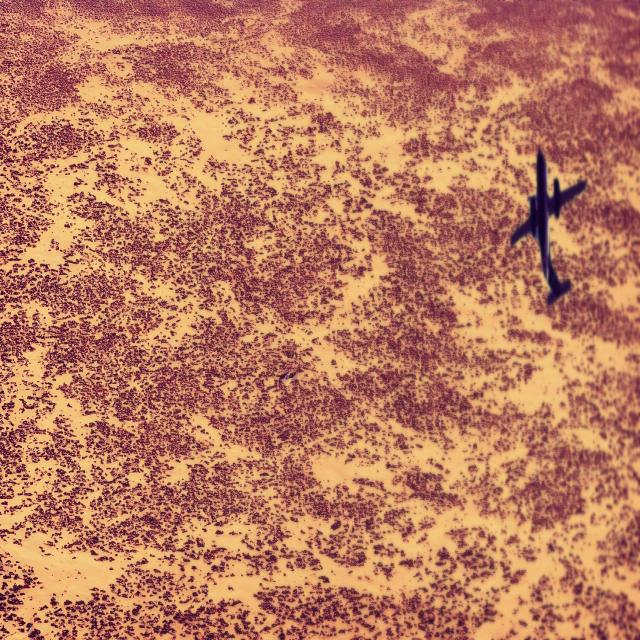airplane: (509, 145, 586, 305)
